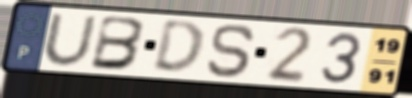2: (265, 25, 315, 84)
3: (319, 31, 363, 86)
B: (87, 13, 149, 72)
D: (149, 18, 207, 77)
S: (204, 22, 259, 80)
U: (41, 12, 100, 68)
